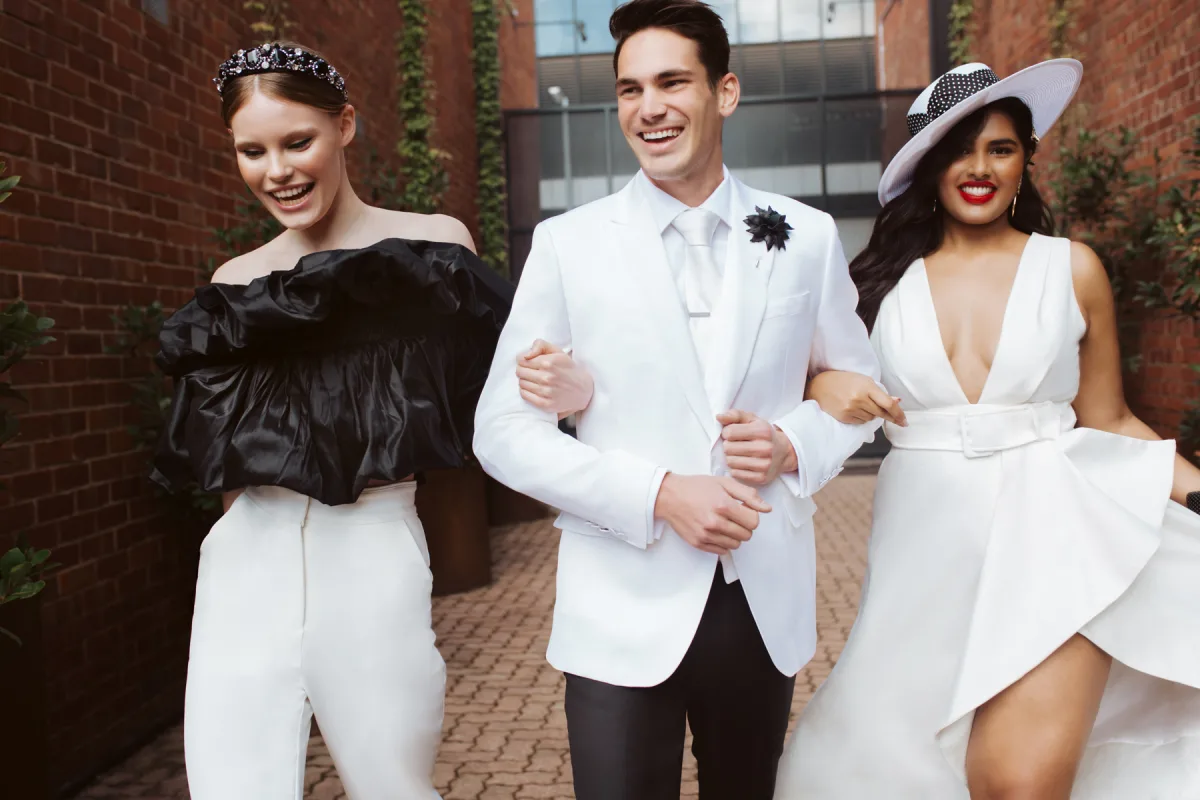Person: (482, 2, 880, 800), (852, 57, 1200, 800), (156, 41, 478, 800)
